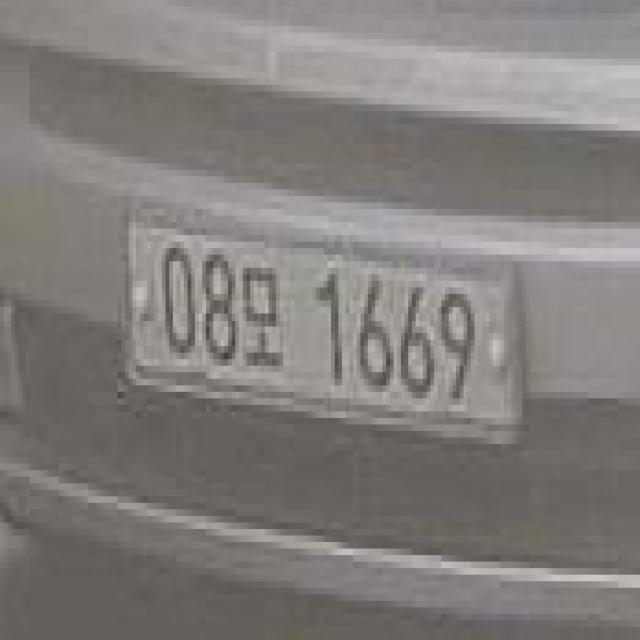illegal_plate: (120, 200, 531, 464)
